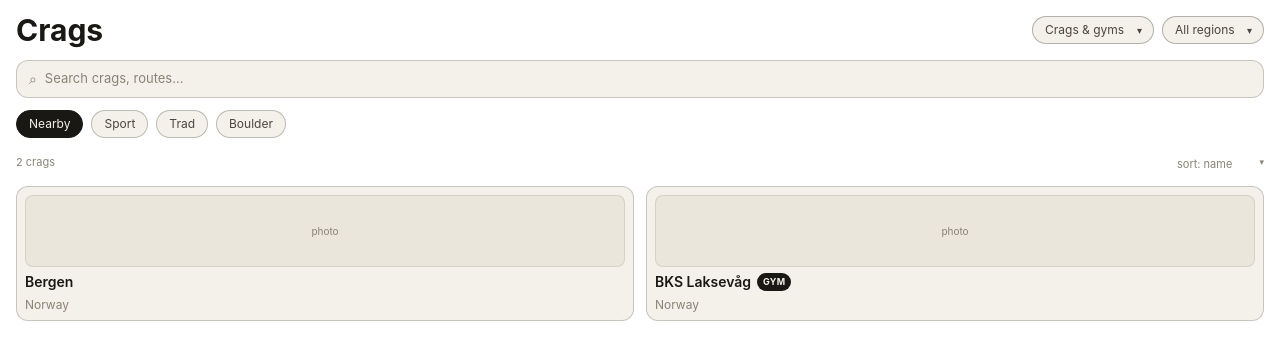
Test case: AreasList type filter › shows a gym badge and filters crags vs gyms
Expected: the text "Gym" is shown, [757,273,791,290]
Select "Gyms" in the dropdown named "Filter by type" at coordinates (1093, 30), box [1032,16,1154,44]
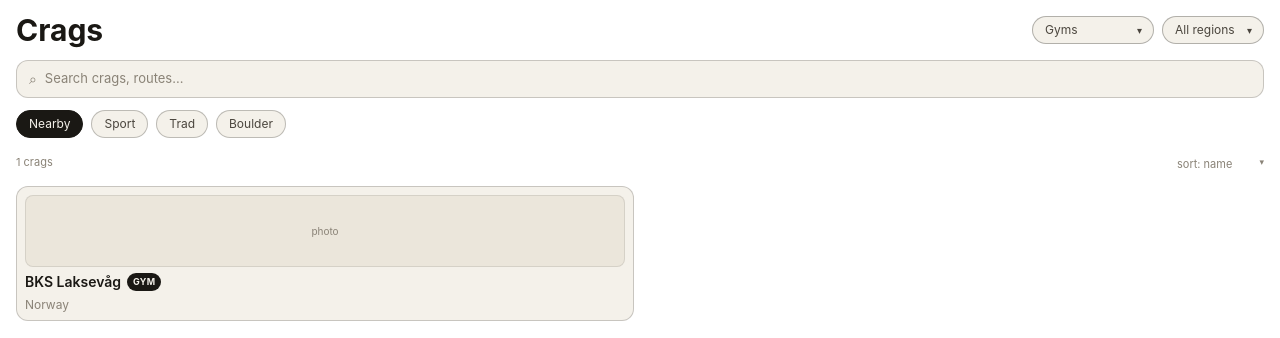
Expected: the text "BKS Laksevåg" is shown, [25,273,121,290]
Result: the text "Bergen" is gone
Select "Crags" in the dropdown named "Filter by type" at coordinates (1093, 30), box [1032,16,1154,44]
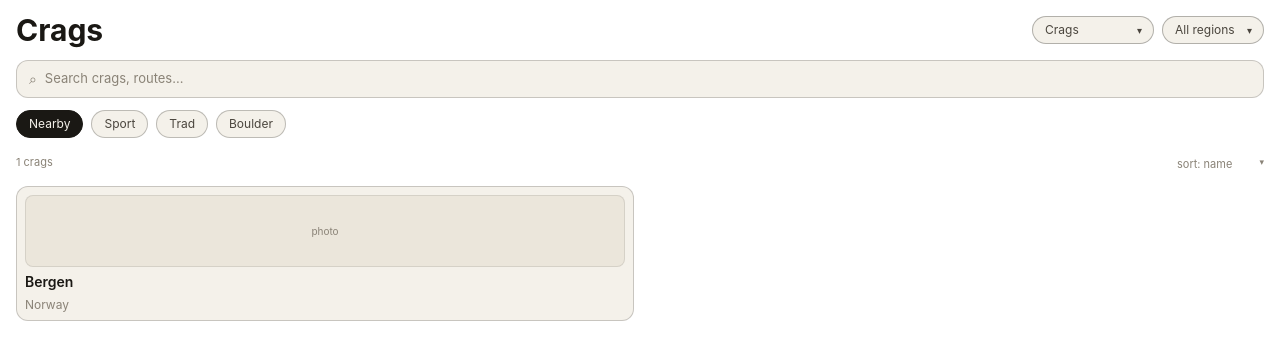
Result: the text "Bergen" is shown at [25,273,73,290]
Result: the text "BKS Laksevåg" is gone
